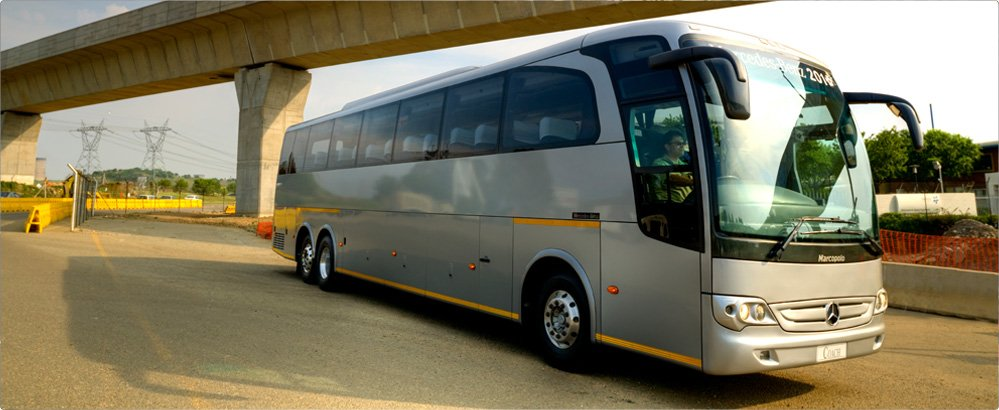bus: (273, 17, 887, 376)
